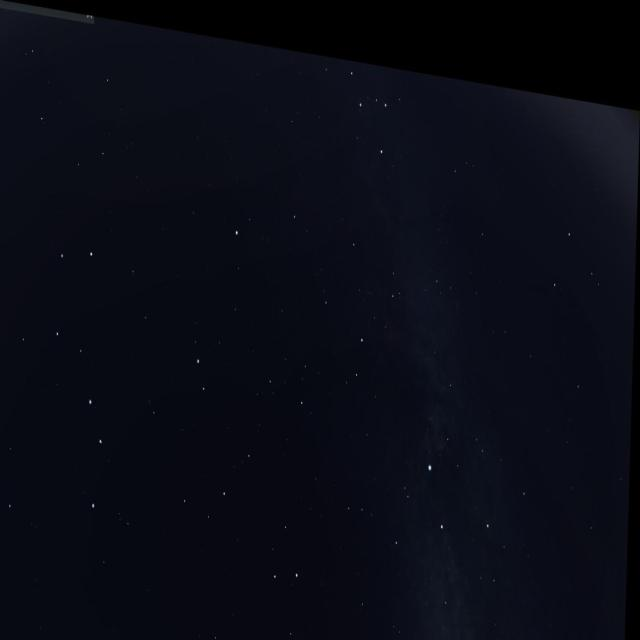cassiopeia: (310, 43, 405, 170)
cygnus: (392, 426, 498, 640)
ursa_major: (24, 223, 136, 533)
